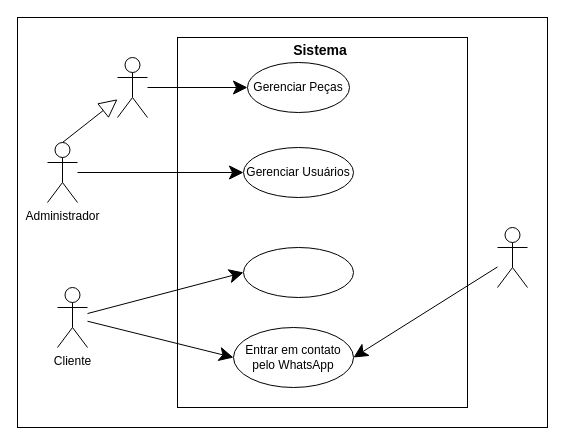
The diagram is 565 pixels wide and 445 high, and some of its shapes have lost their labels. The shapes that lost their labels are listed below. From the top down, each one's centre as x and y in pixels, then its label:
(132,87): Funcionário
(298,272): Acessar Landing Page
(512,257): WhatsApp
